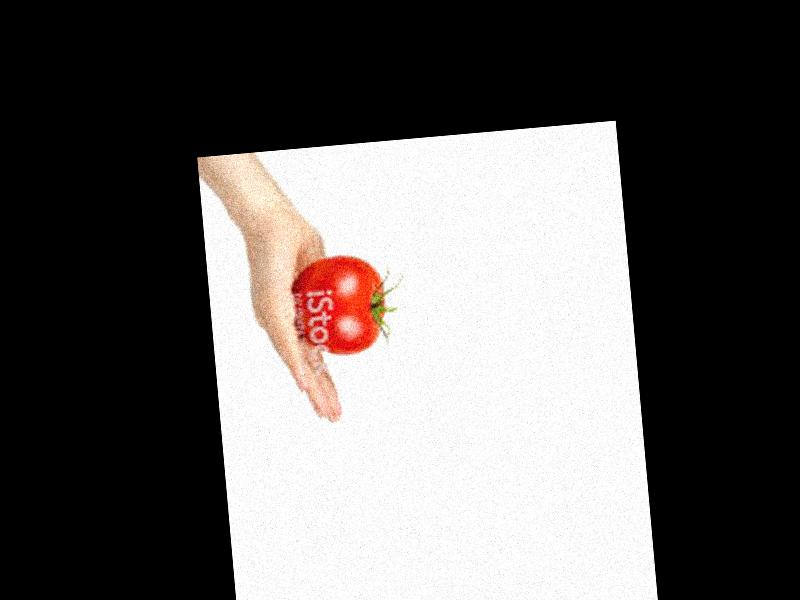Tomato: (291, 251, 391, 357)
